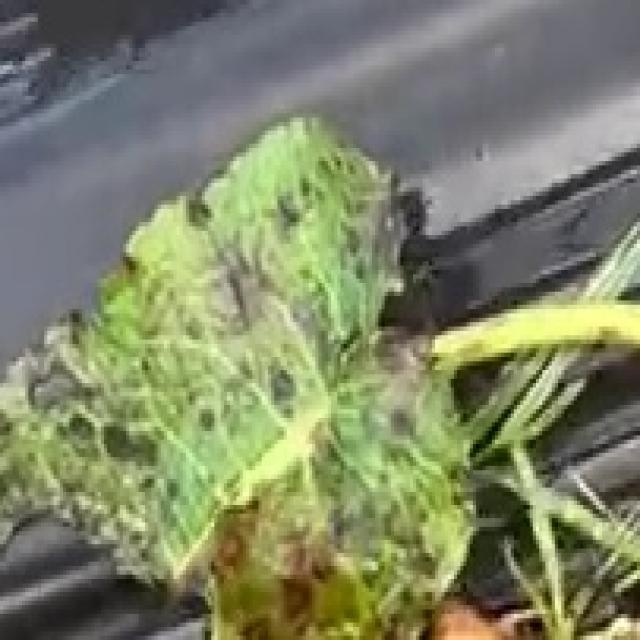organic waste: (34, 110, 582, 590)
